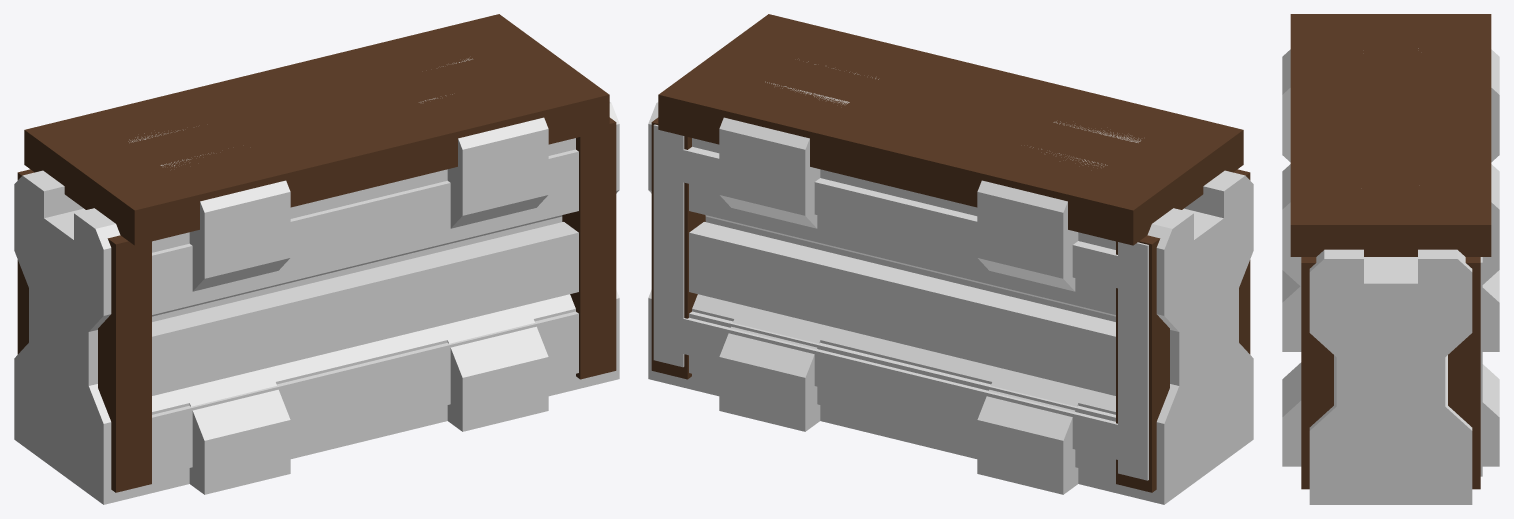
The model's file is SM_CRHex_WallStraight_Tier1_Wood.fbx.
The picture shows the model from 3 angles, left to right: view 1: azimuth 30°, elevation 25°; view 2: azimuth 150°, elevation 25°; view 3: azimuth 270°, elevation 25°; orthographic projection. The views are drawn at different scales.
Visible parts, largest first — view 1: SM_CRHex_WallStraight_Tier1_Wood_Core, SM_CRHex_WallStraight_Tier1_Wood_Accent, SM_CRHex_WallStraight_Tier1_Wood_StylePanels, SM_CRHex_WallStraight_Tier1_Wood_StyleRibs; view 2: SM_CRHex_WallStraight_Tier1_Wood_Core, SM_CRHex_WallStraight_Tier1_Wood_Accent, SM_CRHex_WallStraight_Tier1_Wood_StylePanels, SM_CRHex_WallStraight_Tier1_Wood_Detail, SM_CRHex_WallStraight_Tier1_Wood_StyleRibs; view 3: SM_CRHex_WallStraight_Tier1_Wood_Accent, SM_CRHex_WallStraight_Tier1_Wood_Core, SM_CRHex_WallStraight_Tier1_Wood_StyleRibs, SM_CRHex_WallStraight_Tier1_Wood_Detail.
Boxes of the visible parts, box(x1,y1,x2,y2) form: SM_CRHex_WallStraight_Tier1_Wood_Core: box(14, 58, 619, 504); SM_CRHex_WallStraight_Tier1_Wood_Accent: box(24, 14, 609, 245); SM_CRHex_WallStraight_Tier1_Wood_StylePanels: box(152, 149, 578, 476); SM_CRHex_WallStraight_Tier1_Wood_StyleRibs: box(17, 117, 616, 492); SM_CRHex_WallStraight_Tier1_Wood_Core: box(648, 61, 1253, 504); SM_CRHex_WallStraight_Tier1_Wood_Accent: box(658, 14, 1243, 245); SM_CRHex_WallStraight_Tier1_Wood_StylePanels: box(689, 184, 1115, 476); SM_CRHex_WallStraight_Tier1_Wood_Detail: box(653, 124, 1148, 480); SM_CRHex_WallStraight_Tier1_Wood_StyleRibs: box(651, 117, 1250, 492); SM_CRHex_WallStraight_Tier1_Wood_Accent: box(1290, 14, 1491, 256); SM_CRHex_WallStraight_Tier1_Wood_Core: box(1282, 48, 1499, 504); SM_CRHex_WallStraight_Tier1_Wood_StyleRibs: box(1301, 257, 1480, 489); SM_CRHex_WallStraight_Tier1_Wood_Detail: box(1480, 257, 1482, 476).
Size of the model in its own units: 2 by 1.1 by 0.8.
